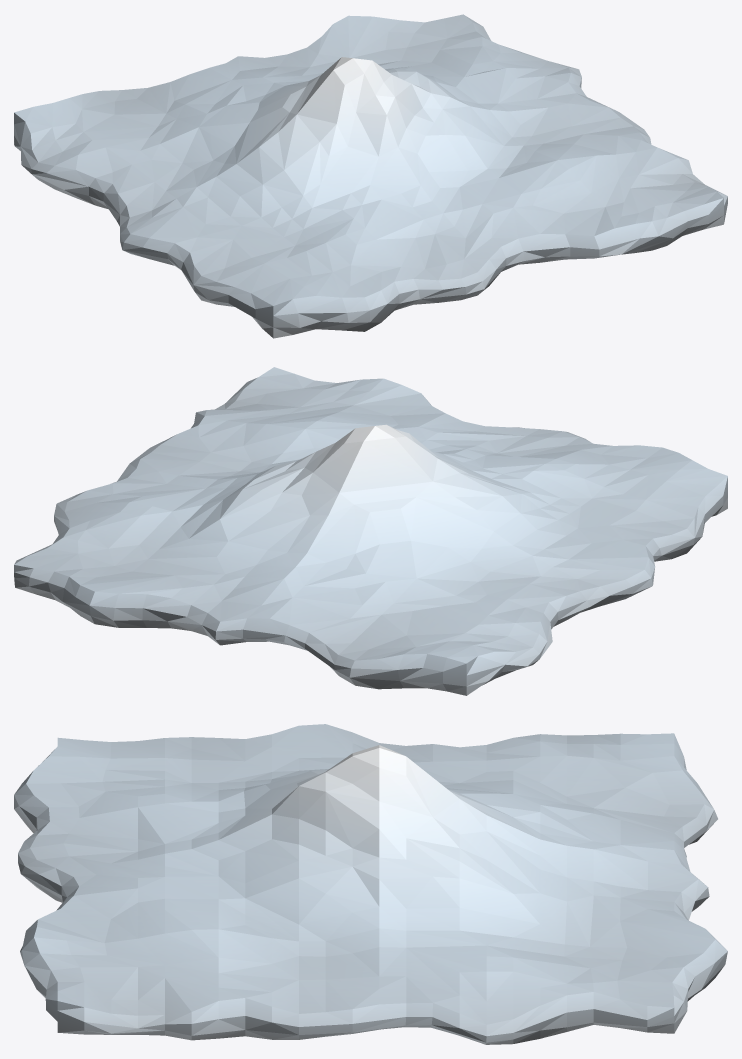
Rendered from Snowy_Mountains_003.FBX.
3 views of the same model, one above another, from view 1: azimuth 30°, elevation 25°; view 2: azimuth 150°, elevation 25°; view 3: azimuth 270°, elevation 25° (orthographic). The views are drawn at different scales.
Parts seen in each view (by area): view 1: Snowy_Mountains_003; view 2: Snowy_Mountains_003; view 3: Snowy_Mountains_003.
Boxes of the visible parts, x1,y1,x2,y2 form: Snowy_Mountains_003: [14, 14, 727, 338]; Snowy_Mountains_003: [14, 367, 727, 695]; Snowy_Mountains_003: [14, 724, 727, 1044].
Size of the model in its own units: 1001 by 246 by 993.
Materials: 1 (1 with a texture image).
